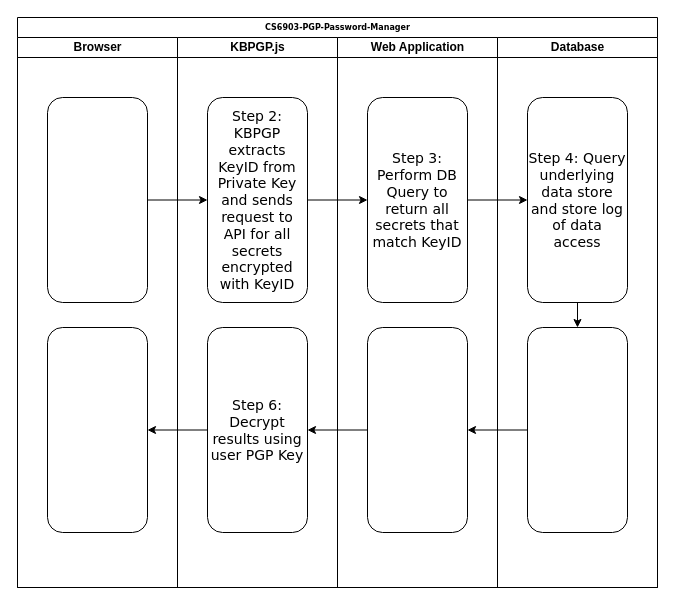
Image size: 675x605. Some labels were removed from this diagram. The shapes that lost their labels are listed below. From the top down, each one's centre as x and y in pixels, then its label:
point (97, 199): Step 1: User uploads PGP key into browser
point (97, 429): Step 7: Display secret names, values, and authorized users (key IDs)
point (417, 429): Step 5: Encrypt results using stored Public Key and return to client
point (577, 429): Step 5: Return results
